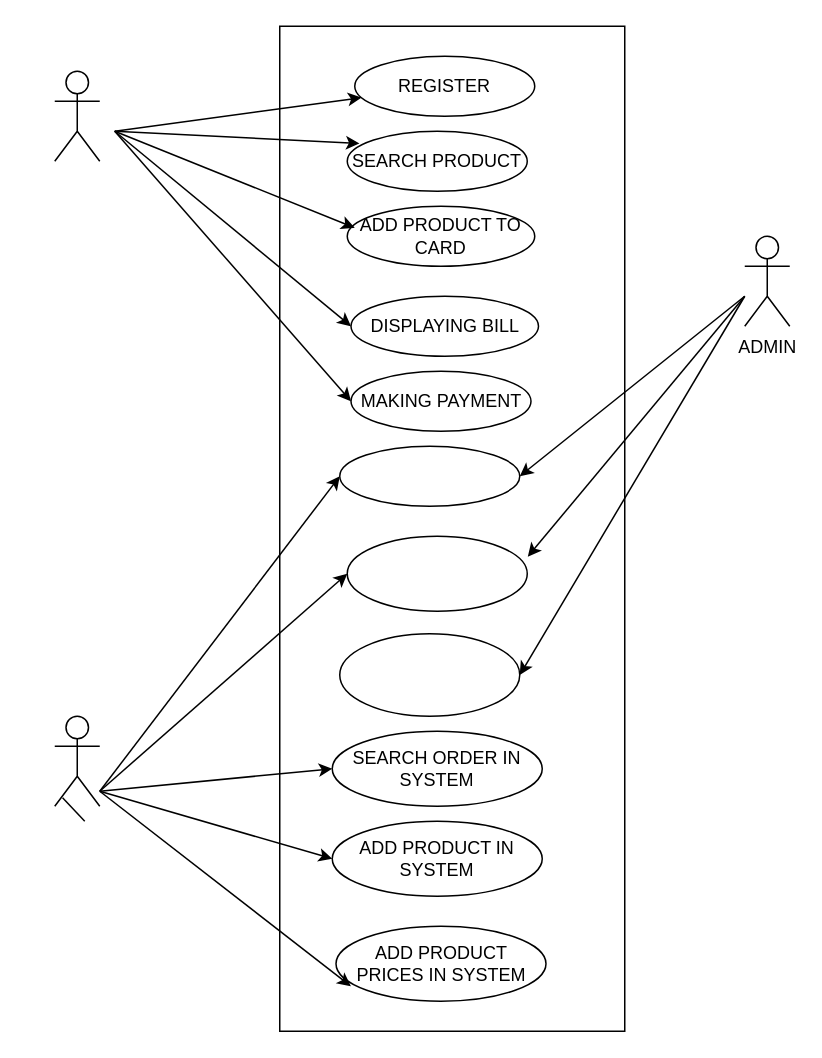
The diagram is 822 pixels wide and 1058 high, and some of its shapes have lost their labels. Here are the shapes that lost their labels. From the top down, the centre of each, then its label:
the point at 76,115: CUSTOMER
the point at 429,475: VIEW CUSTOMER PAGE
the point at 436,573: ADD CUSTOMER ACCOUNT
the point at 429,674: VIEW CUSTOMER ACCOUNT
the point at 76,760: MANAGER
